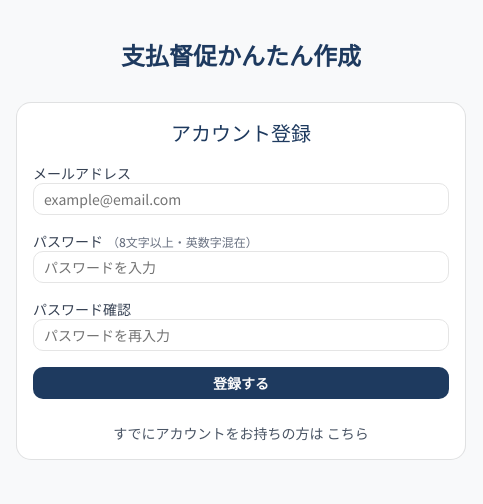
Test: RegisterPage › パスワードに数字が含まれない場合エラーが表示される
The width and height of the screenshot is (483, 504).
Type "test@example.com" into the field labelled "メールアドレス" at {"x": 241, "y": 199}, box [33,183,449,215]
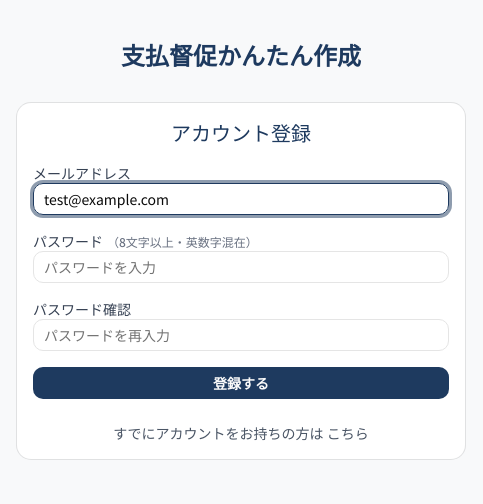
Type "password" into the password field with placeholder "パスワードを入力" at {"x": 241, "y": 267}, box [33,251,449,283]
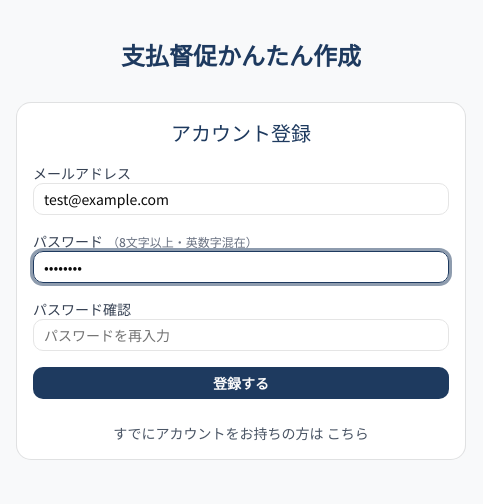
Type "password" into the password field with placeholder "パスワードを再入力" at {"x": 241, "y": 335}, box [33,319,449,351]
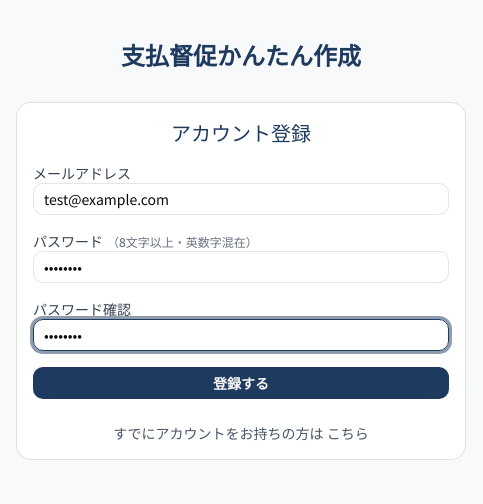
Submit the form "登録する", box [33,163,449,399]
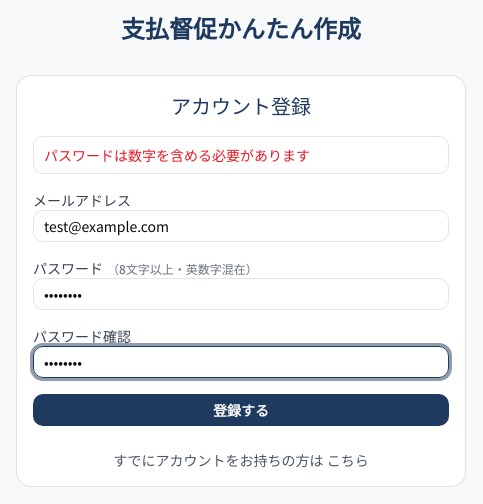
Now the message "パスワードは数字を含める必要があります" is shown, box [33,136,449,174]
